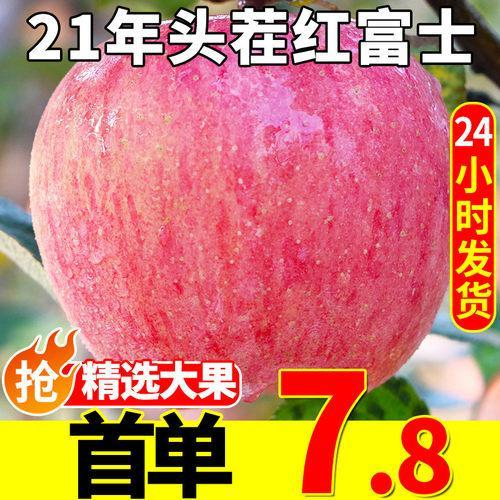apple: (29, 12, 451, 394)
